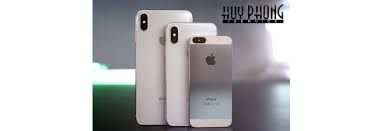iphone: (185, 34, 237, 129)
